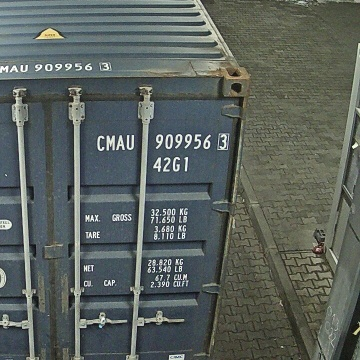serial_id: (97, 133, 227, 151)
